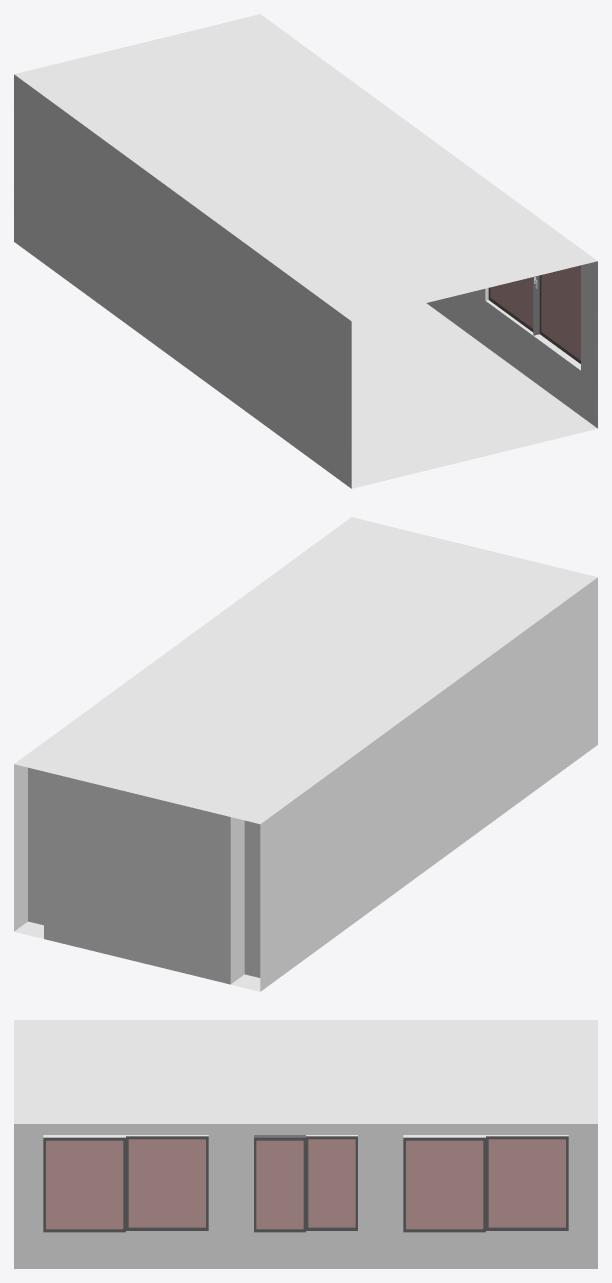
3 views of the same model, one above another, from view 1: azimuth 30°, elevation 25°; view 2: azimuth 150°, elevation 25°; view 3: azimuth 270°, elevation 25° (orthographic). The views are drawn at different scales.
Visible parts, largest first — view 1: Box485; view 2: Box485; view 3: Box485.
Boxes of the visible parts, x1,y1,x2,y2 form: Box485: (14,14,597,488); Box485: (14,517,597,991); Box485: (14,1020,597,1268).
Size of the model in its own units: 312361 by 197740 by 722044.
